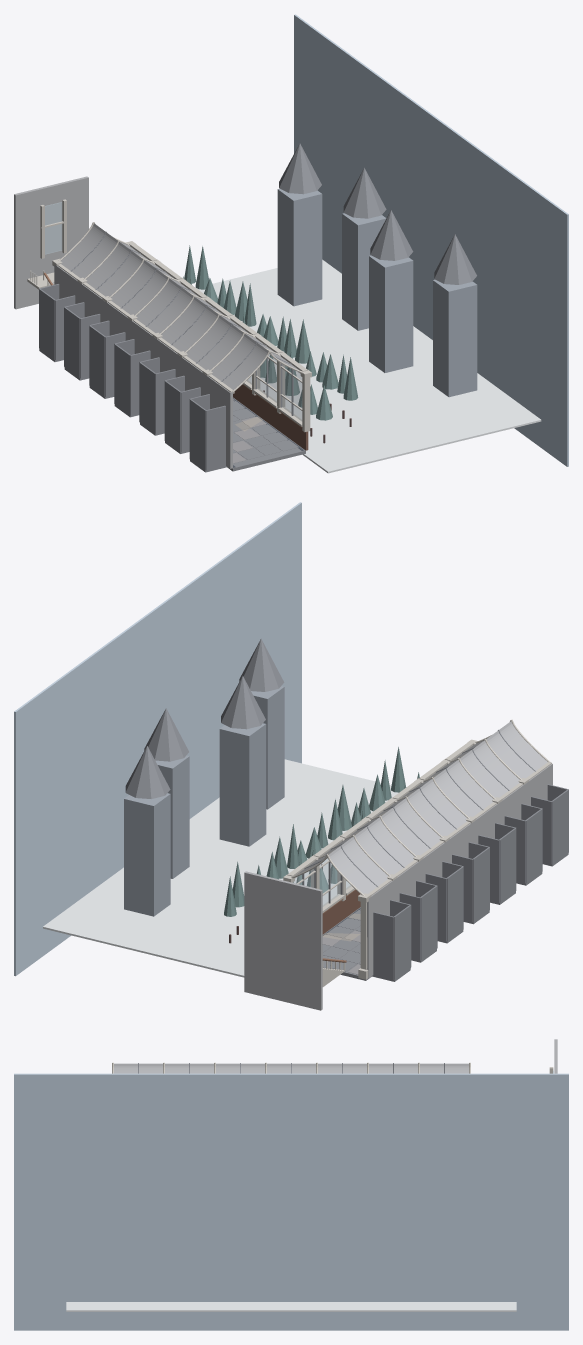
Rendered from lahudi-academy_ep01_s01_REBUILT_v1.glb.
3 views of the same model, one above another, from view 1: azimuth 30°, elevation 25°; view 2: azimuth 150°, elevation 25°; view 3: azimuth 270°, elevation 25° (orthographic). The views are drawn at different scales.
Visible parts, largest first — view 1: RB_EXTERIOR__distant_blue_sky, RB_EXTERIOR__winter_ground, RB_VAULT__continuous_pointed_stone_surface, RB_FAR__back_wall, RB_CASTLE__keep_0, RB_CASTLE__keep_3, RB_CASTLE__keep_2, RB_CASTLE__keep_1, RB_CASTLE__spire_1, RB_PORTAL_6__vestibule_side_1, RB_CASTLE__spire_3, RB_CASTLE__spire_2 (+27 smaller); view 2: RB_EXTERIOR__distant_blue_sky, RB_EXTERIOR__winter_ground, RB_VAULT__continuous_pointed_stone_surface, RB_FAR__back_wall, RB_CASTLE__keep_2, RB_CASTLE__keep_0, RB_CASTLE__keep_1, RB_CASTLE__keep_3, RB_PORTAL_0__vestibule_side_-1, RB_CASTLE__spire_0, RB_CASTLE__spire_2, RB_CASTLE__spire_1 (+22 smaller); view 3: RB_EXTERIOR__distant_blue_sky, RB_EXTERIOR__winter_ground, RB_VAULT__continuous_pointed_stone_surface.
Boxes of the visible parts, x1,y1,x2,y2 form: RB_EXTERIOR__distant_blue_sky: (294,14,568,466); RB_EXTERIOR__winter_ground: (196,259,541,473); RB_VAULT__continuous_pointed_stone_surface: (61,223,298,389); RB_FAR__back_wall: (14,176,88,309); RB_CASTLE__keep_0: (277,188,322,306); RB_CASTLE__keep_3: (433,279,477,397); RB_CASTLE__keep_2: (369,255,413,372); RB_CASTLE__keep_1: (342,213,386,330); RB_CASTLE__spire_1: (343,168,386,218); RB_PORTAL_6__vestibule_side_1: (205,405,225,470); RB_CASTLE__spire_3: (434,234,476,284); RB_CASTLE__spire_2: (370,210,413,260); RB_EXTERIOR__distant_blue_sky: (14,502,301,976); RB_EXTERIOR__winter_ground: (43,759,398,977); RB_VAULT__continuous_pointed_stone_surface: (296,721,547,893); RB_FAR__back_wall: (244,871,322,1010); RB_CASTLE__keep_2: (219,723,266,846); RB_CASTLE__keep_0: (124,793,170,916); RB_CASTLE__keep_1: (155,755,189,878); RB_CASTLE__keep_3: (251,686,284,809); RB_PORTAL_0__vestibule_side_-1: (373,912,394,979); RB_CASTLE__spire_0: (125,746,170,798); RB_CASTLE__spire_2: (221,676,265,729); RB_CASTLE__spire_1: (144,708,188,761); RB_EXTERIOR__distant_blue_sky: (14,1073,568,1330); RB_EXTERIOR__winter_ground: (66,1302,516,1311); RB_VAULT__continuous_pointed_stone_surface: (114,1063,468,1073).
Bounding box in the file's own units: 36.66 × 27 × 53.
